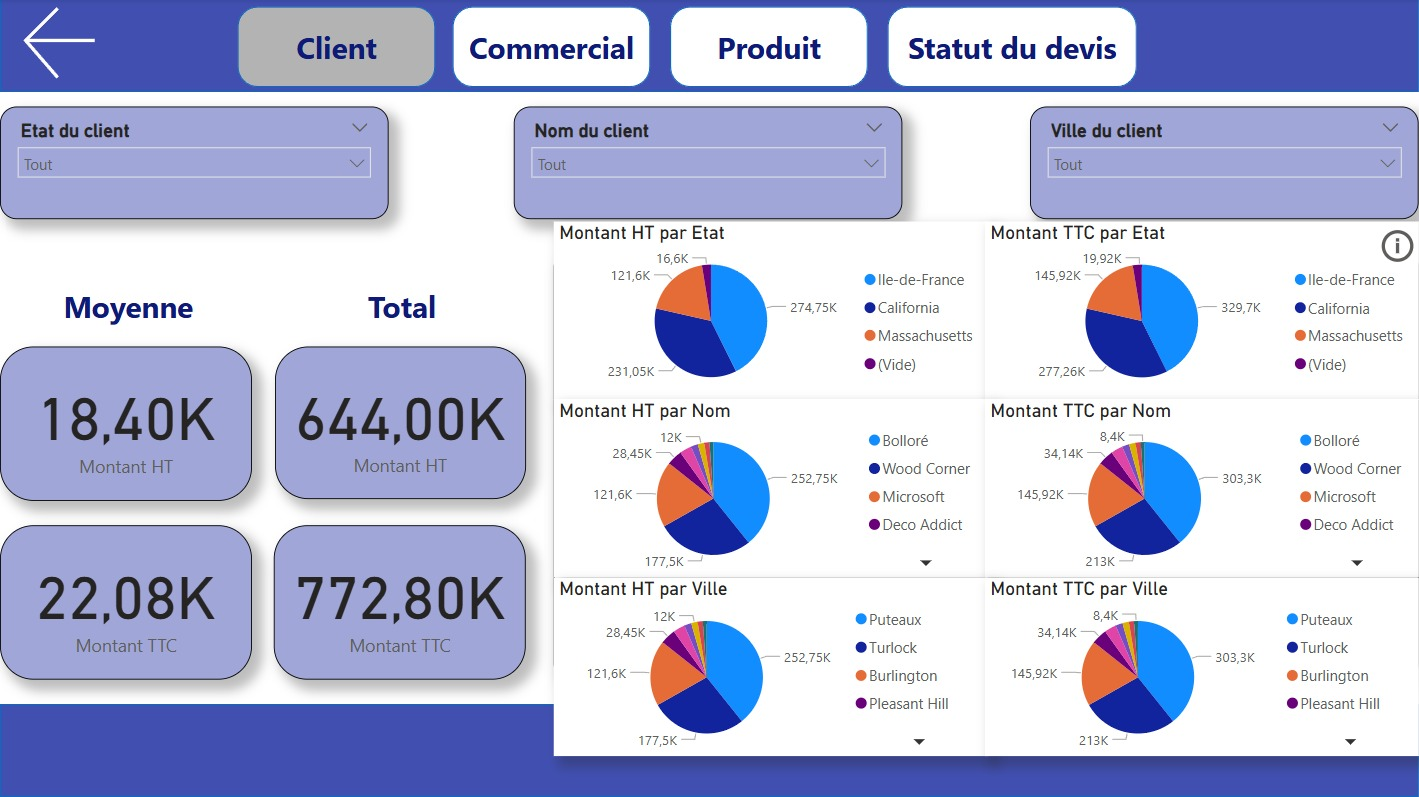

What the dashboard file says about the page in this screenshot:
{"tool":"powerbi","page":{"name":"Client","canvas":[1280,720],"ordinal":1},"visuals":[{"type":"lineChart","title":"Evolution du montant HT et TTC des devis par Date de création des devis","fields":{"Y":["Sum(dsid_dwh f_devis.montant_ht)","Sum(dsid_dwh f_devis.montant_ttc)","Avg(dsid_dwh f_devis.montant_ht)","Avg(dsid_dwh f_devis.montant_ttc)"],"Category":["dsid_dwh f_devis.date_creation"]},"box":[499.8,226.2,780.2,387.6],"z":0},{"type":"shape","box":[0,0,1279.3,83.8],"z":1000},{"type":"slicer","fields":{"Values":["dsid_dwh dim_client.nom_client"]},"box":[463.2,97,350.7,101.5],"z":2000},{"type":"slicer","fields":{"Values":["dsid_dwh dim_client.ville_client"]},"box":[928.6,97,350.7,101.5],"z":3000},{"type":"slicer","fields":{"Values":["dsid_dwh dim_client.etat_client"]},"box":[0,97,350,101.5],"z":4000},{"type":"card","fields":{"Values":["Sum(dsid_dwh f_devis.montant_ht)"]},"box":[247.6,313.7,226.8,138],"z":5000},{"type":"card","fields":{"Values":["Sum(dsid_dwh f_devis.montant_ttc)"]},"box":[247,474.2,227.2,139],"z":6000},{"type":"card","fields":{"Values":["Avg(dsid_dwh f_devis.montant_ht)"]},"box":[0,313.2,227.2,139],"z":7000},{"type":"card","fields":{"Values":["Avg(dsid_dwh f_devis.montant_ttc)"]},"box":[0,474.2,227.2,139],"z":8000},{"type":"shape","box":[0,635.2,1279.3,83.8],"z":9000},{"type":"shape","box":[213.9,6.6,178.7,72.8],"z":10000},{"type":"shape","box":[800.7,6.6,225,72.8],"z":11000},{"type":"shape","box":[408,6.6,178.7,72.8],"z":12000},{"type":"shape","box":[604.3,6.6,178.7,72.8],"z":13000},{"type":"shape","box":[41.9,240.4,147.8,72.8],"z":14000},{"type":"shape","box":[288.9,240.4,147.8,72.8],"z":15000},{"type":"actionButton","box":[15.1,0,79.4,79.4],"z":16000},{"type":"actionButton","box":[1237.8,226.8,41.6,47.2],"z":17000}]}

Visuals, with their boxes in screenshot pixels (x1, y1, x2, y2), scaled from the page's 1280x720 canvas onto the 1419x797 screenshot:
"Evolution du montant HT et TTC des devis par Date de création des devis" lineChart: x1=554 y1=250 x2=1418 y2=679
shape: x1=0 y1=0 x2=1418 y2=93
slicer - dsid_dwh dim_client.nom_client: x1=514 y1=107 x2=902 y2=220
slicer - dsid_dwh dim_client.ville_client: x1=1029 y1=107 x2=1418 y2=220
slicer - dsid_dwh dim_client.etat_client: x1=0 y1=107 x2=388 y2=220
card - Sum(dsid_dwh f_devis.montant_ht): x1=274 y1=347 x2=526 y2=500
card - Sum(dsid_dwh f_devis.montant_ttc): x1=274 y1=525 x2=526 y2=679
card - Avg(dsid_dwh f_devis.montant_ht): x1=0 y1=347 x2=252 y2=501
card - Avg(dsid_dwh f_devis.montant_ttc): x1=0 y1=525 x2=252 y2=679
shape: x1=0 y1=703 x2=1418 y2=796
shape: x1=237 y1=7 x2=435 y2=88
shape: x1=888 y1=7 x2=1137 y2=88
shape: x1=452 y1=7 x2=650 y2=88
shape: x1=670 y1=7 x2=868 y2=88
shape: x1=46 y1=266 x2=210 y2=347
shape: x1=320 y1=266 x2=484 y2=347
actionButton: x1=17 y1=0 x2=105 y2=88
actionButton: x1=1372 y1=251 x2=1418 y2=303
